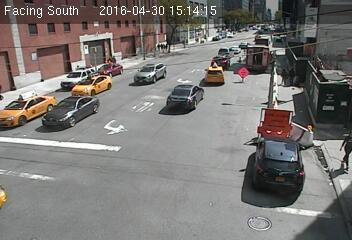neg: (32, 90, 66, 135), (164, 124, 198, 168), (60, 3, 90, 44), (146, 1, 176, 41), (246, 29, 272, 63), (97, 109, 121, 142), (209, 57, 231, 87), (229, 5, 249, 32), (198, 30, 210, 46)
pos: (333, 128, 351, 171), (288, 63, 304, 83), (177, 36, 191, 54), (110, 52, 119, 63), (105, 54, 113, 64)
